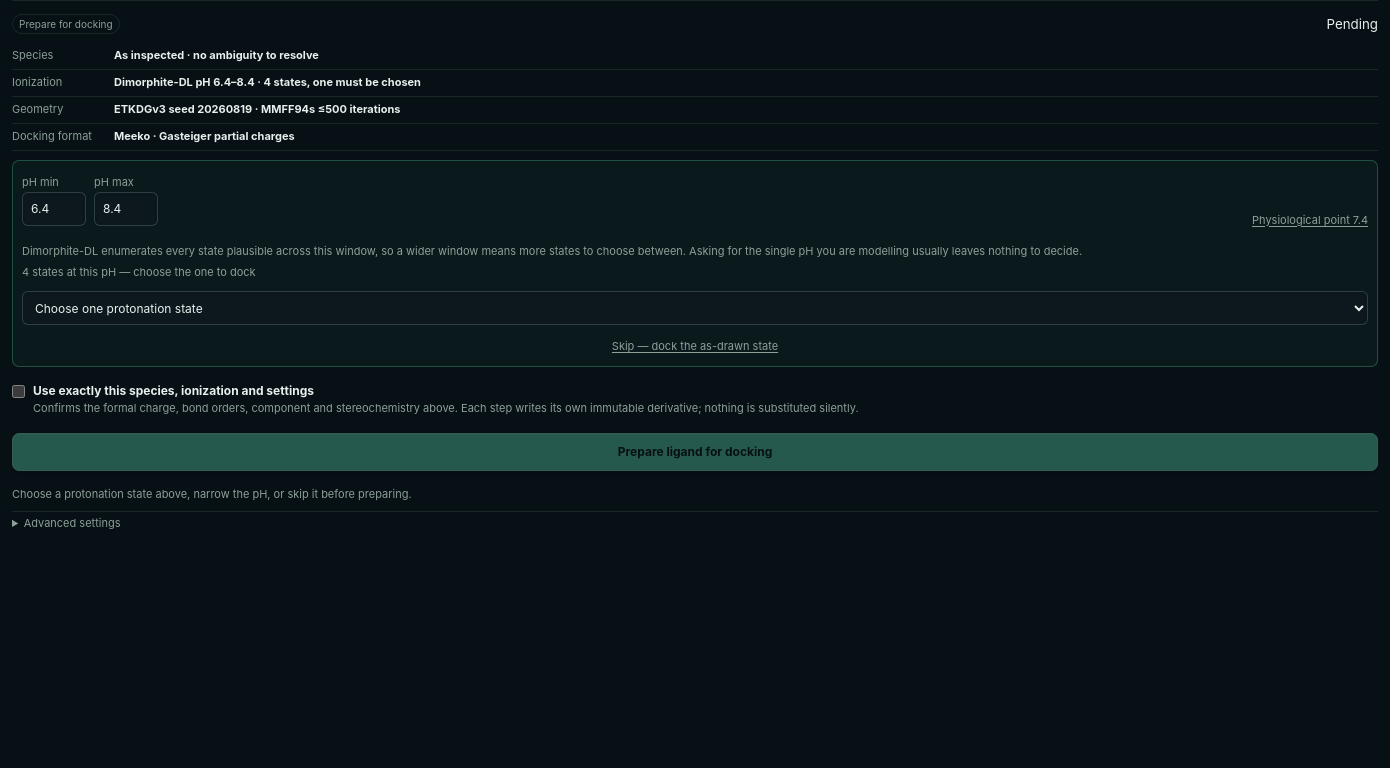
Test case: stops and asks when more than one ionization state exists
Click the checkbox labelled "Use exactly this species".
click(18, 392)  # box left=12, top=385, right=25, bottom=398
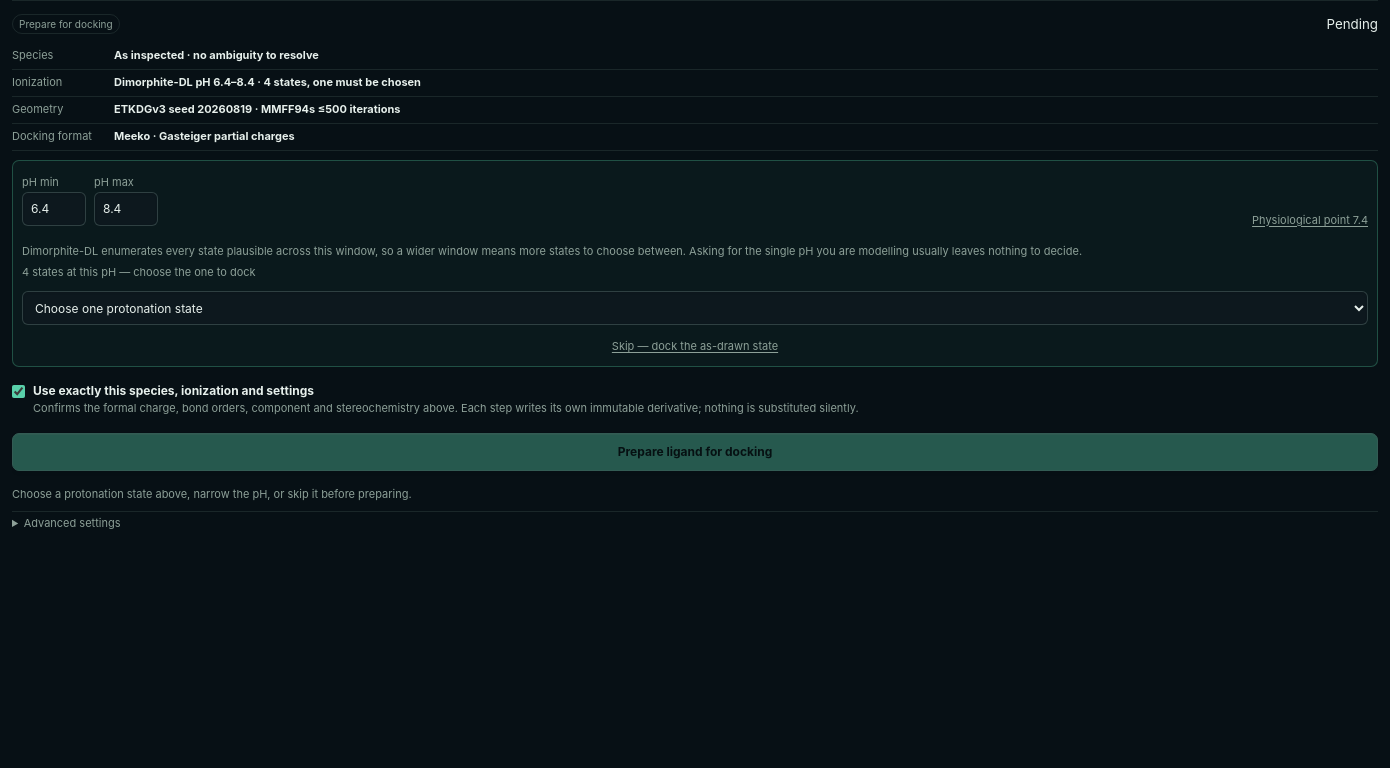
Expected: the button "Prepare ligand for docking" is disabled, left=12, top=432, right=1378, bottom=470
Expected: the text "Choose a protonation state above" is shown, left=12, top=486, right=412, bottom=500
Select "2" in the dropdown labelled "4 states at this pH — choose the one to dock" at (695, 308), box left=22, top=291, right=1368, bottom=325
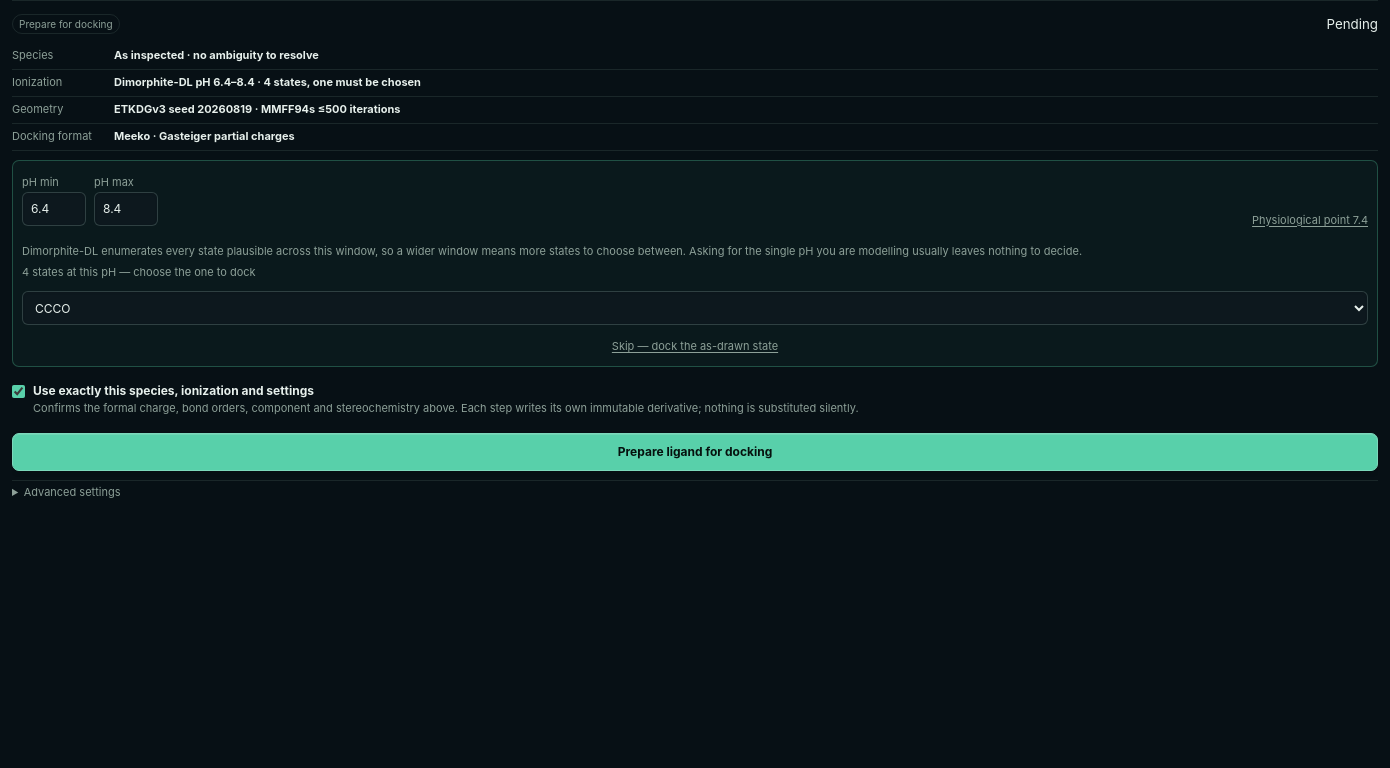
Expected: the button "Prepare ligand for docking" is enabled, left=12, top=432, right=1378, bottom=470
